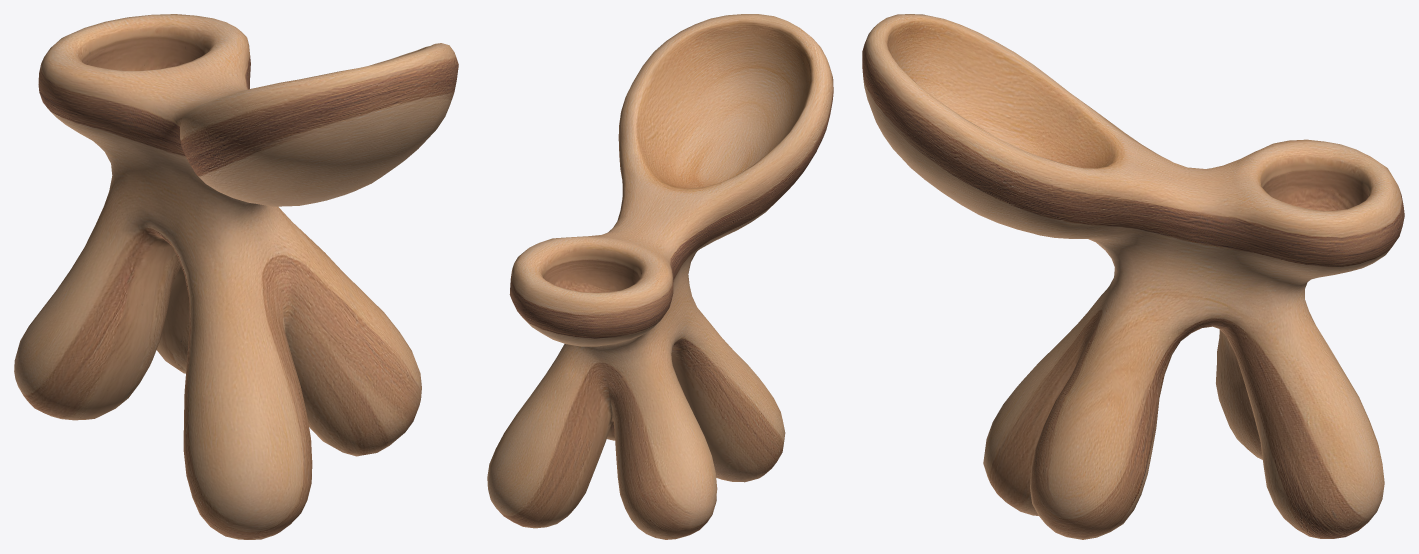
File: spiseredskap_02.glb
The picture shows the model from 3 angles, left to right: view 1: azimuth 30°, elevation 25°; view 2: azimuth 150°, elevation 25°; view 3: azimuth 270°, elevation 25°; orthographic projection. The views are drawn at different scales.
Parts seen in each view (by area): view 1: tripo_node_b349bb6c-0bc3-40c1-9bdf-b21845f36692; view 2: tripo_node_b349bb6c-0bc3-40c1-9bdf-b21845f36692; view 3: tripo_node_b349bb6c-0bc3-40c1-9bdf-b21845f36692.
Boxes of the visible parts, x1,y1,x2,y2 form: tripo_node_b349bb6c-0bc3-40c1-9bdf-b21845f36692: (14,14,458,539); tripo_node_b349bb6c-0bc3-40c1-9bdf-b21845f36692: (487,14,833,539); tripo_node_b349bb6c-0bc3-40c1-9bdf-b21845f36692: (862,14,1404,539).
Bounding box in the file's own units: 0.5723 × 0.998 × 0.998.
1 material, 1 textured.
